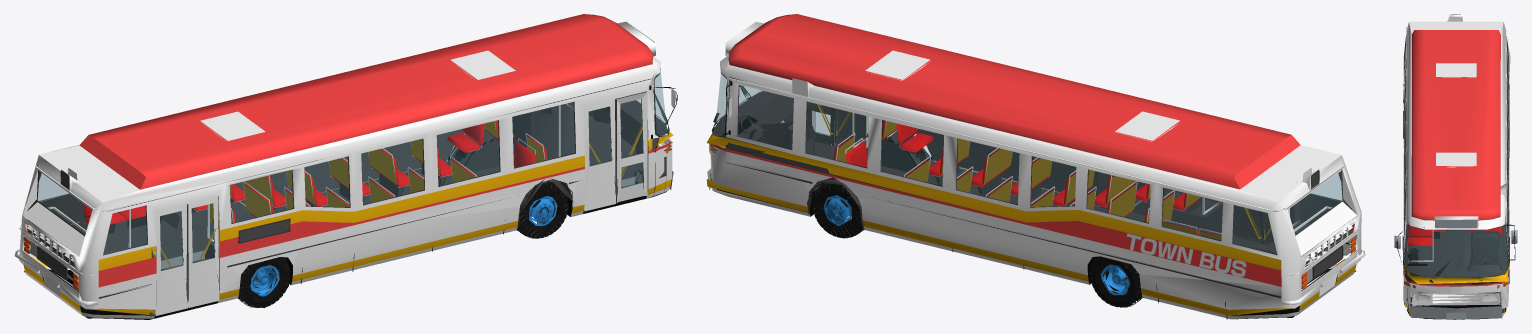
File: town_bus.glb
The picture shows the model from 3 angles, left to right: view 1: azimuth 30°, elevation 25°; view 2: azimuth 150°, elevation 25°; view 3: azimuth 270°, elevation 25°; orthographic projection. The views are drawn at different scales.
Parts seen in each view (by area): view 1: body-detail-23, body-detail-32, body-detail-14, body-detail-20, body-detail-25, body-detail-31, body-detail-33, body-detail-22, body-detail-21, body-detail-08, body-detail-10, body-detail-30 (+5 smaller); view 2: body-detail-23, body-detail-32, body-detail-14, body-detail-31, body-detail-25, body-detail-20, body-detail-33, body-detail-22, body-detail-21, body-detail-09, body-detail-12, body-detail-30 (+4 smaller); view 3: body-detail-32, body-detail-23, body-detail-14, body-detail-20, body-detail-25, body-detail-15, body-detail-21, body-detail-31, body-detail-22, body-detail-30, body-detail-24, body-detail-03 (+8 smaller).
Boxes of the visible parts, left/top/right/bottom form: body-detail-23: left=19, top=21, right=672, bottom=318; body-detail-32: left=26, top=14, right=670, bottom=287; body-detail-14: left=38, top=73, right=667, bottom=270; body-detail-20: left=39, top=99, right=671, bottom=315; body-detail-25: left=28, top=61, right=666, bottom=316; body-detail-31: left=22, top=131, right=673, bottom=314; body-detail-33: left=160, top=121, right=642, bottom=267; body-detail-22: left=84, top=120, right=548, bottom=226; body-detail-21: left=37, top=68, right=677, bottom=307; body-detail-08: left=518, top=181, right=569, bottom=238; body-detail-10: left=238, top=257, right=290, bottom=307; body-detail-30: left=14, top=78, right=652, bottom=305; body-detail-23: left=709, top=22, right=1361, bottom=319; body-detail-32: left=710, top=14, right=1353, bottom=286; body-detail-14: left=714, top=74, right=1341, bottom=253; body-detail-31: left=706, top=133, right=1356, bottom=315; body-detail-25: left=714, top=59, right=1351, bottom=266; body-detail-20: left=710, top=85, right=1341, bottom=254; body-detail-33: left=817, top=104, right=1271, bottom=240; body-detail-22: left=833, top=120, right=1221, bottom=236; body-detail-21: left=711, top=58, right=1350, bottom=298; body-detail-09: left=812, top=183, right=862, bottom=238; body-detail-12: left=1090, top=256, right=1142, bottom=307; body-detail-30: left=729, top=77, right=1365, bottom=304; body-detail-32: left=1403, top=30, right=1509, bottom=286; body-detail-23: left=1403, top=14, right=1510, bottom=316; body-detail-14: left=1405, top=59, right=1507, bottom=300; body-detail-20: left=1402, top=35, right=1509, bottom=302; body-detail-25: left=1403, top=55, right=1508, bottom=314; body-detail-15: left=1405, top=170, right=1507, bottom=319; body-detail-21: left=1396, top=14, right=1515, bottom=284; body-detail-31: left=1403, top=121, right=1508, bottom=313; body-detail-22: left=1406, top=177, right=1502, bottom=245; body-detail-30: left=1402, top=27, right=1509, bottom=223; body-detail-24: left=1408, top=22, right=1478, bottom=293; body-detail-03: left=1435, top=219, right=1477, bottom=228.
Bounding box in the file's own units: 131 × 32.36 × 31.73.
Materials: 20 (3 with a texture image).
